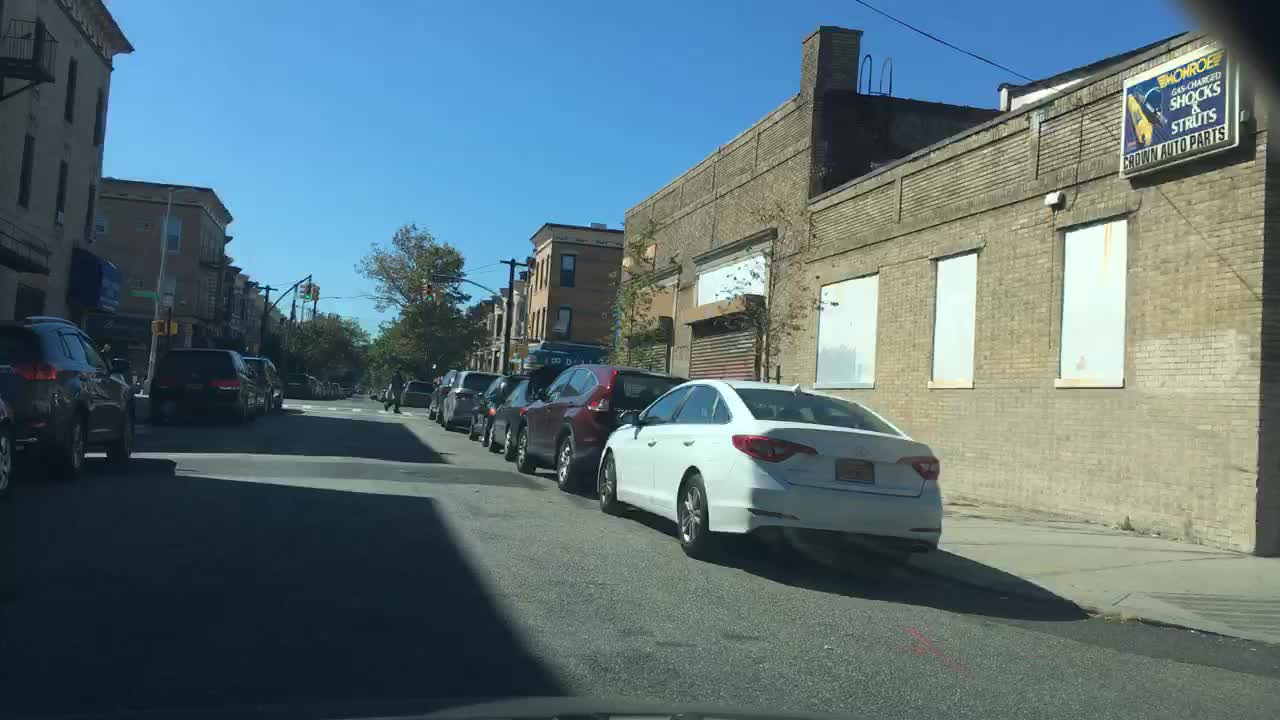car: (594, 376, 944, 569), (514, 363, 691, 493), (0, 313, 137, 474), (486, 360, 575, 462), (147, 347, 257, 427), (467, 373, 530, 448), (441, 369, 505, 432), (241, 355, 286, 415), (0, 394, 19, 491), (428, 369, 461, 423), (399, 378, 438, 407), (283, 371, 312, 399), (383, 381, 406, 404), (321, 379, 337, 399), (307, 375, 319, 399), (331, 381, 346, 399), (315, 378, 324, 399), (341, 385, 355, 397), (375, 388, 386, 401), (367, 387, 377, 398), (358, 385, 368, 393), (354, 384, 361, 392)
person: (384, 366, 412, 416)
traffic light: (509, 343, 529, 359), (150, 318, 168, 335), (165, 320, 179, 335), (425, 282, 436, 301), (434, 284, 444, 304), (310, 283, 320, 301), (416, 283, 426, 301), (297, 281, 305, 301), (304, 282, 312, 300)
traffic sign: (126, 288, 158, 298)
